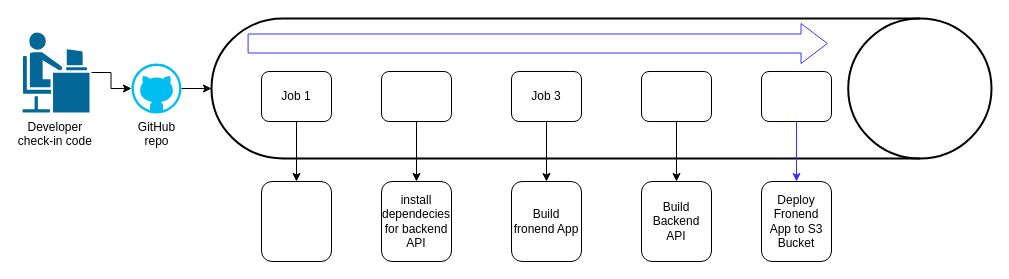
This 1009x279 diagram has some shape labels left out. The centre of each missing label's shape, as x and y in pixels:
install dependecies for fronend App: [296,221]
Job 2: [416,96]
Job 4: [676,96]
Job 7: [796,96]
